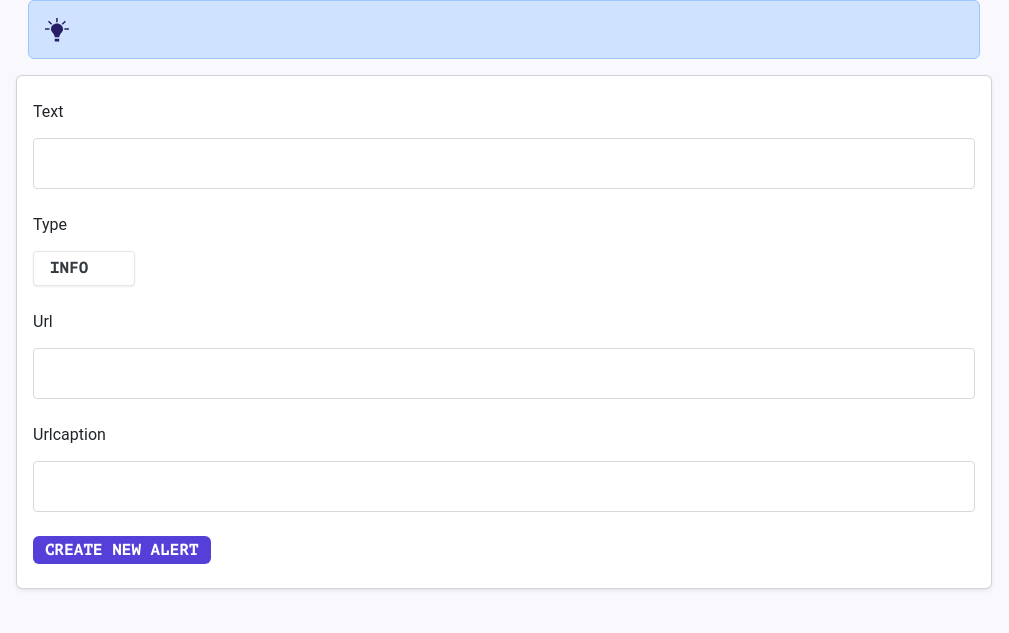
AdminLewAlert component › Should refuse creating new alert with incomplete data
In the field with test id "input2": {"x": 504, "y": 373} [33,348,975,399], type "url"
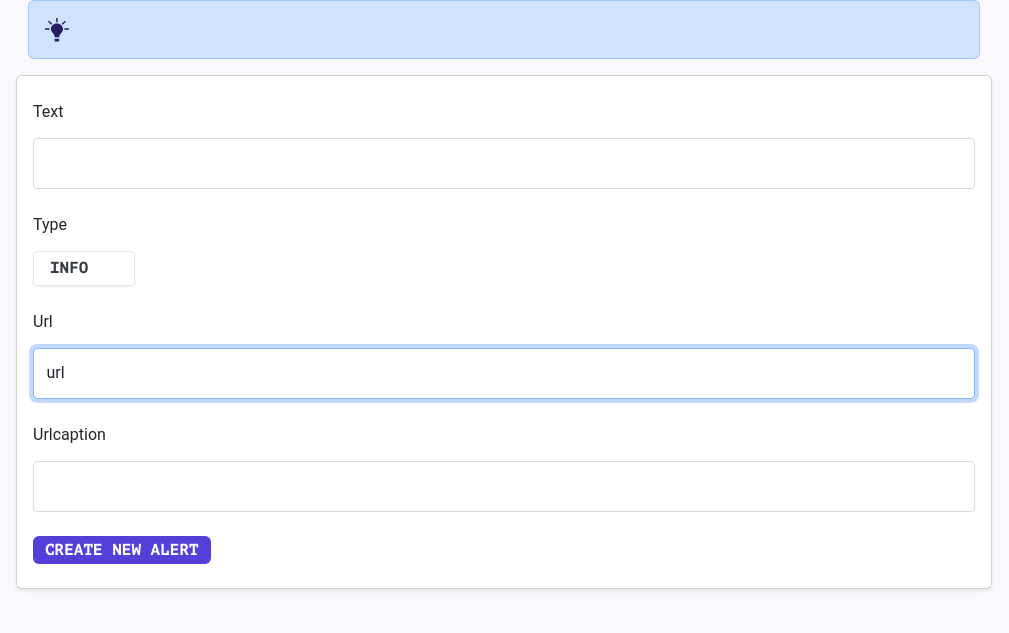
In the field with test id "input3": {"x": 504, "y": 486} [33,461,975,512], type "caption"
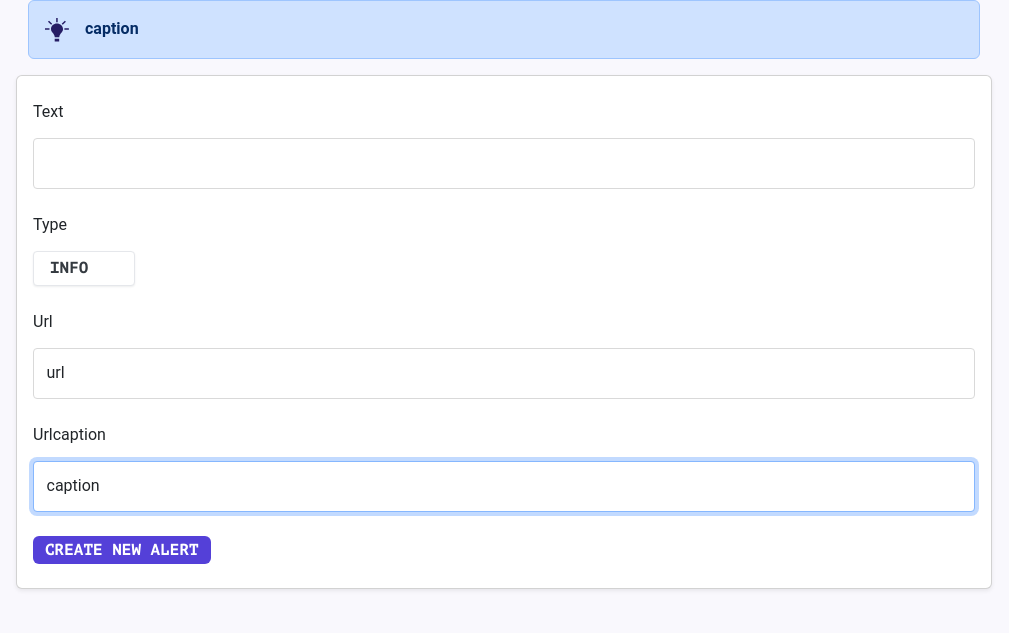
Click the button "Create New Alert": {"x": 122, "y": 550} [33,536,211,564]
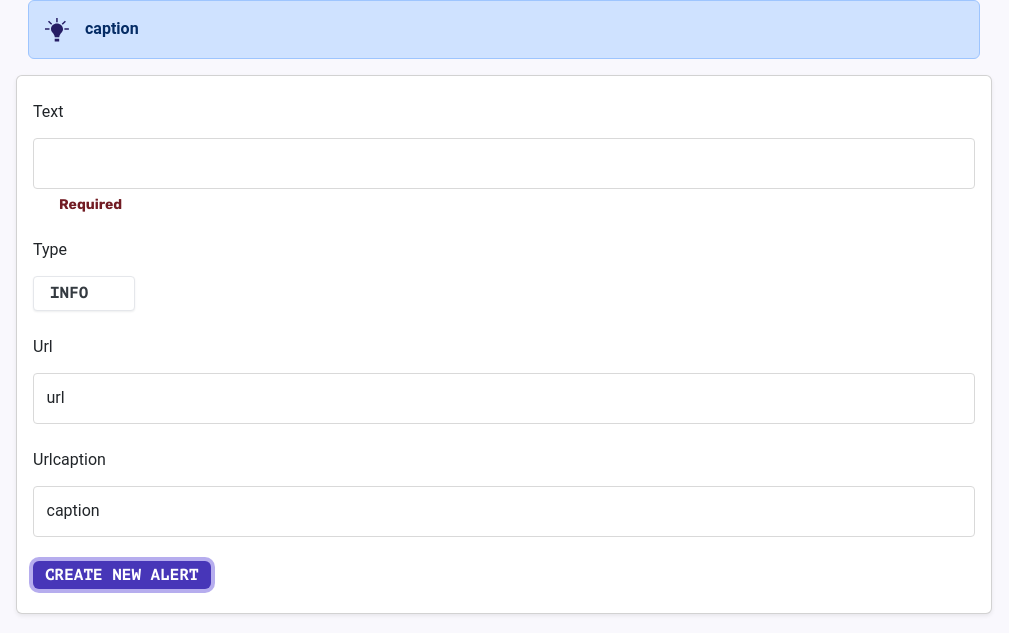
Result: the heading "Required" is shown at [59,196,122,213]
